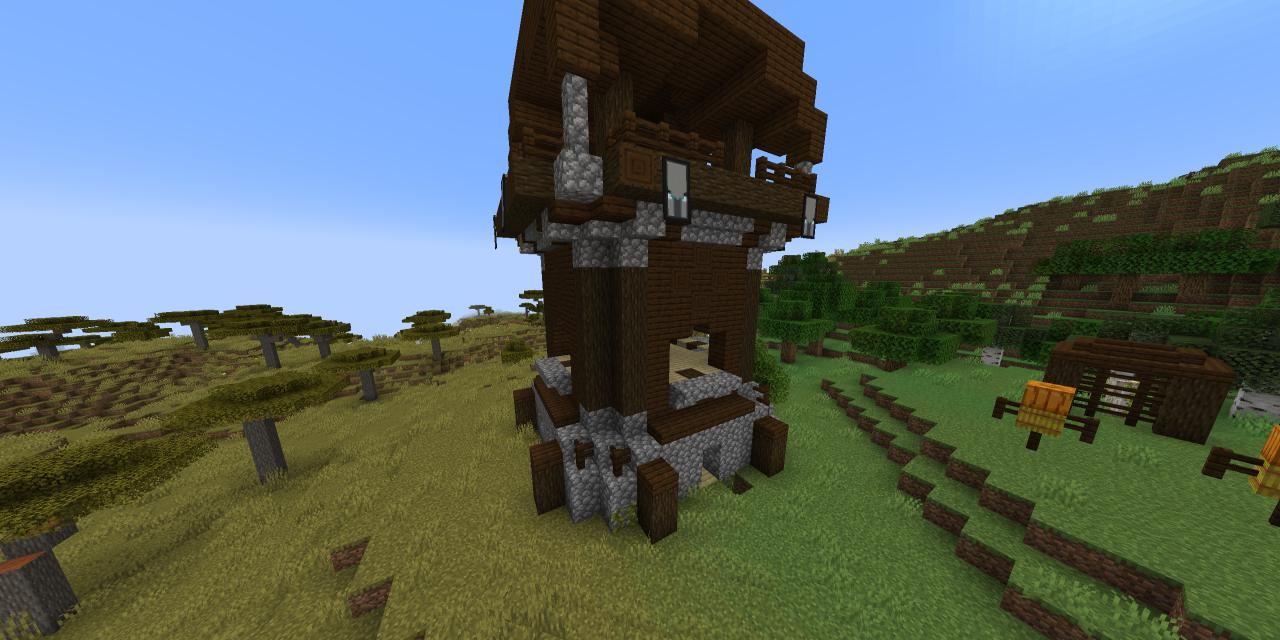pillager outpost: (479, 0, 838, 557)
